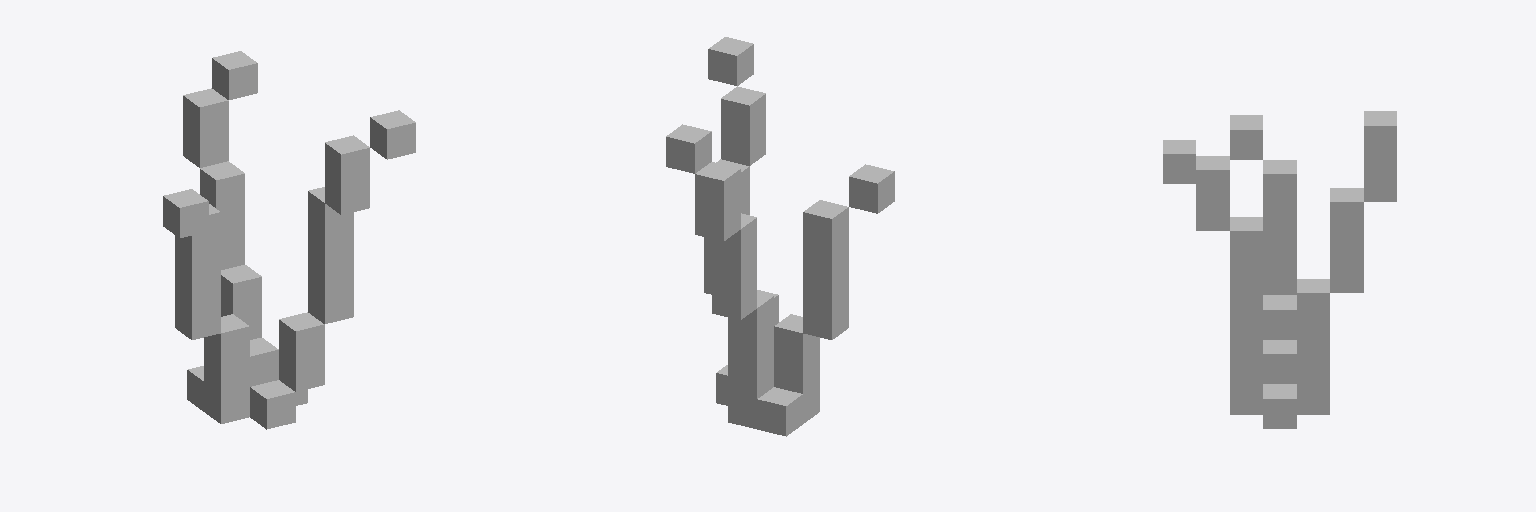
Rendered from Grass.obj.
The picture shows the model from 3 angles: view 1: azimuth 30°, elevation 25°; view 2: azimuth 150°, elevation 25°; view 3: azimuth 270°, elevation 25°; orthographic projection.
Visible parts, largest first — view 1: Grass; view 2: Grass; view 3: Grass.
Part boxes in pixels (left/top/right/bottom): Grass: left=163, top=51, right=415, bottom=429; Grass: left=666, top=37, right=894, bottom=436; Grass: left=1163, top=111, right=1396, bottom=428.
Size of the model in its own units: 7 by 10 by 7.